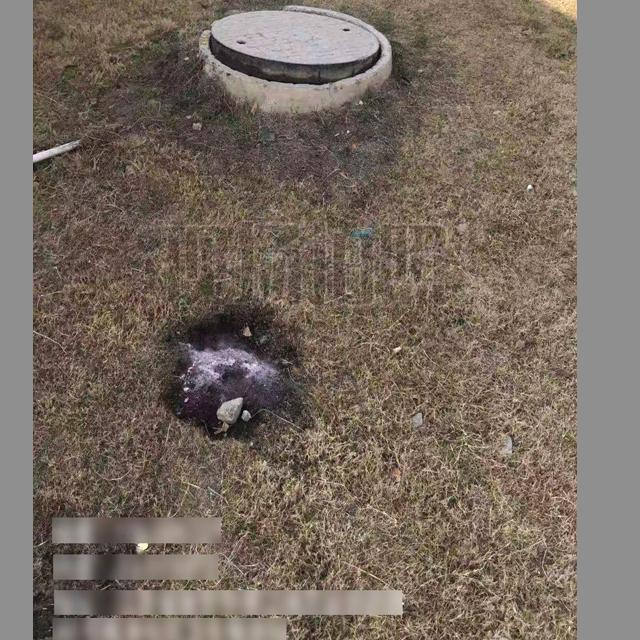uncovered: (199, 5, 390, 97)
